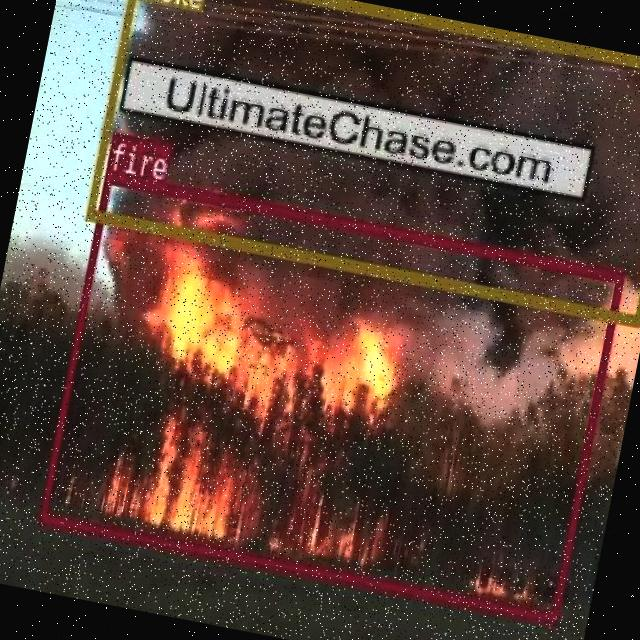smoke: (85, 0, 640, 323)
